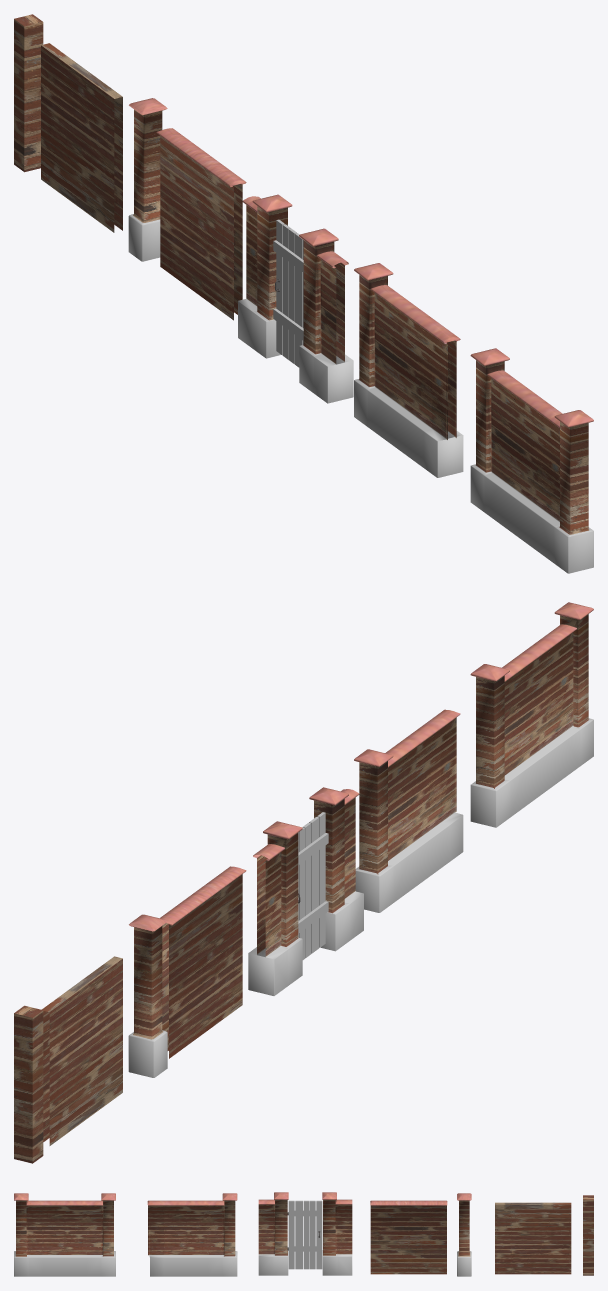
The model's file is BrickWalls.fbx.
3 renders of one model, top to bottom at view 1: azimuth 30°, elevation 25°; view 2: azimuth 150°, elevation 25°; view 3: azimuth 270°, elevation 25°, orthographic. The views are drawn at different scales.
Visible parts, largest first — view 1: BrickWall, BrickWall1, BrickDoorway, BrickWall2, BrickWall3, BrickWallPillar, BrickWallPillar2, Door; view 2: BrickWall, BrickWall1, BrickDoorway, BrickWall2, BrickWall3, BrickWallPillar, BrickWallPillar2, Door; view 3: BrickWall, BrickWall1, BrickWall2, BrickWall3, BrickDoorway, Door, BrickWallPillar, BrickWallPillar2.
Part boxes in pixels (x1,y1,x2,y2): BrickWall: [470, 348, 593, 573]; BrickWall1: [354, 263, 463, 477]; BrickDoorway: [238, 194, 353, 403]; BrickWall2: [156, 128, 246, 320]; BrickWall3: [41, 43, 122, 232]; BrickWallPillar: [128, 98, 167, 261]; BrickWallPillar2: [14, 14, 43, 172]; Door: [273, 219, 303, 367]; BrickWall: [470, 602, 593, 827]; BrickWall1: [354, 709, 463, 912]; BrickDoorway: [248, 787, 363, 995]; BrickWall2: [160, 866, 246, 1058]; BrickWall3: [41, 956, 122, 1145]; BrickWallPillar: [128, 914, 167, 1077]; BrickWallPillar2: [14, 1005, 43, 1163]; Door: [298, 812, 328, 959]; BrickWall: [14, 1193, 115, 1276]; BrickWall1: [147, 1193, 237, 1276]; BrickWall2: [370, 1200, 447, 1274]; BrickWall3: [495, 1202, 571, 1274]; BrickDoorway: [258, 1192, 352, 1275]; Door: [288, 1200, 322, 1269]; BrickWallPillar: [457, 1193, 471, 1276]; BrickWallPillar2: [583, 1195, 593, 1275].
Bounding box in the file's own units: 106 × 491 × 3264.
